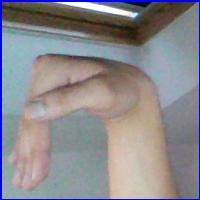del: (13, 49, 159, 184)
